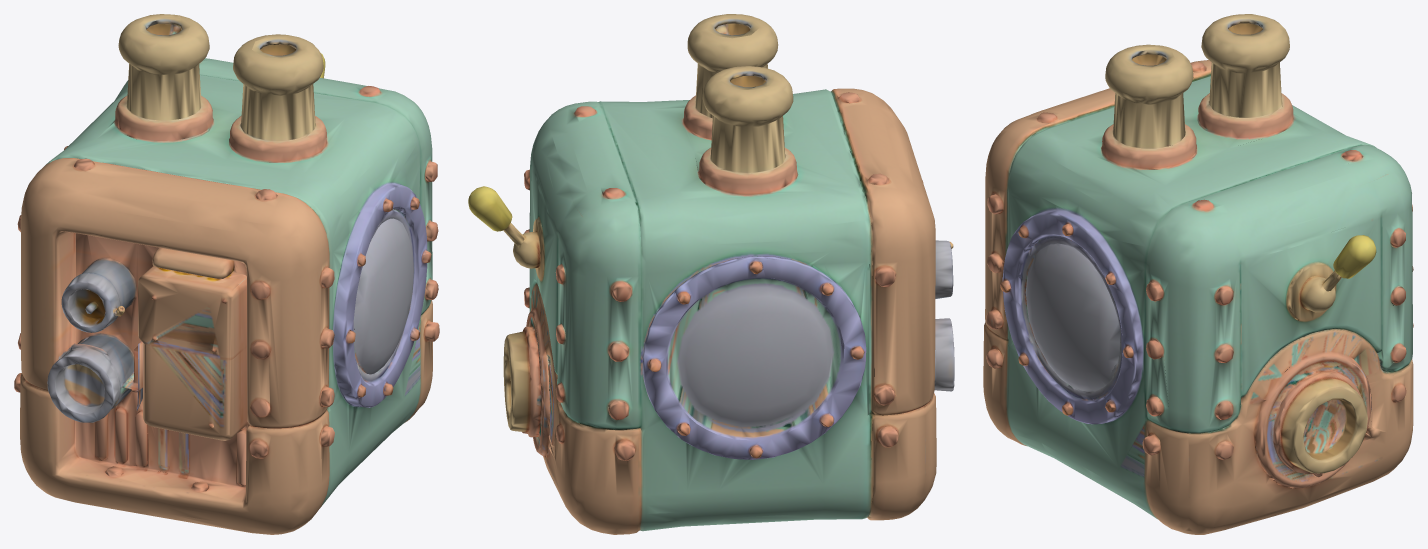
The picture shows the model from 3 angles, left to right: view 1: azimuth 30°, elevation 25°; view 2: azimuth 150°, elevation 25°; view 3: azimuth 270°, elevation 25°; orthographic projection. The views are drawn at different scales.
Parts seen in each view (by area): view 1: repaired; view 2: repaired; view 3: repaired.
Part boxes in pixels (x1=…): repaired: x1=14, y1=14, x2=439, y2=534; repaired: x1=468, y1=14, x2=954, y2=534; repaired: x1=983, y1=14, x2=1413, y2=534.
Size of the model in its own units: 0.9903 by 1 by 0.9493.
1 material, 1 textured.
